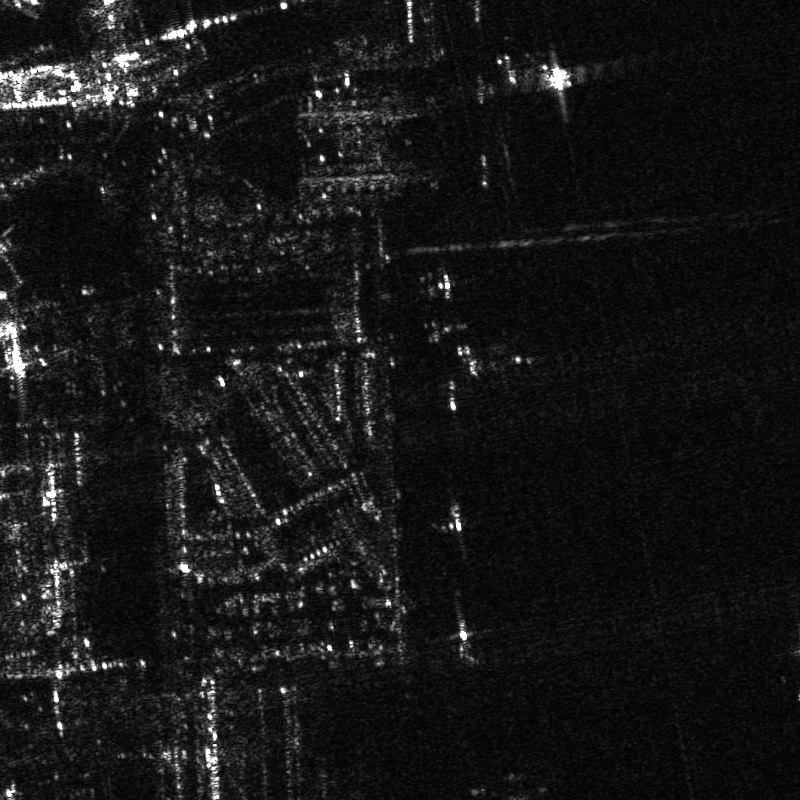A220: (483, 19, 602, 119), (438, 334, 544, 391)
other: (782, 615, 799, 739)
